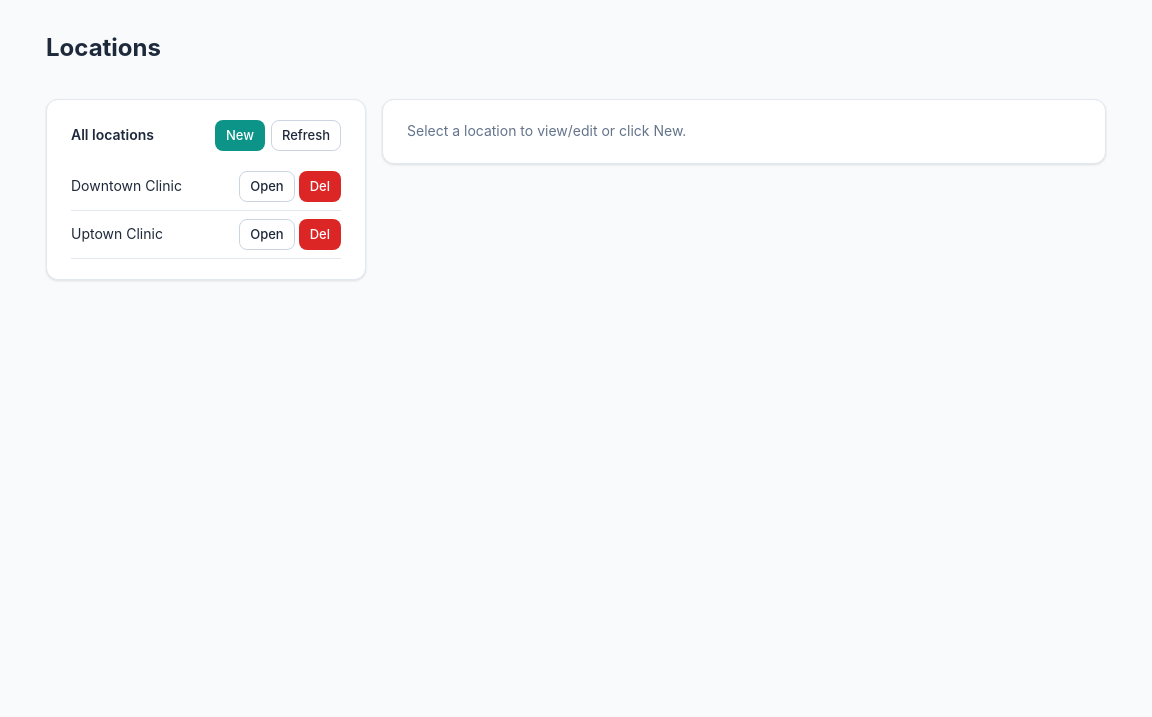
Scenario: LocationsPage › clicking a location name loads it read-only
The image size is (1152, 717).
Click the text "Downtown Clinic" at (126, 186), box [71,175,182,198]
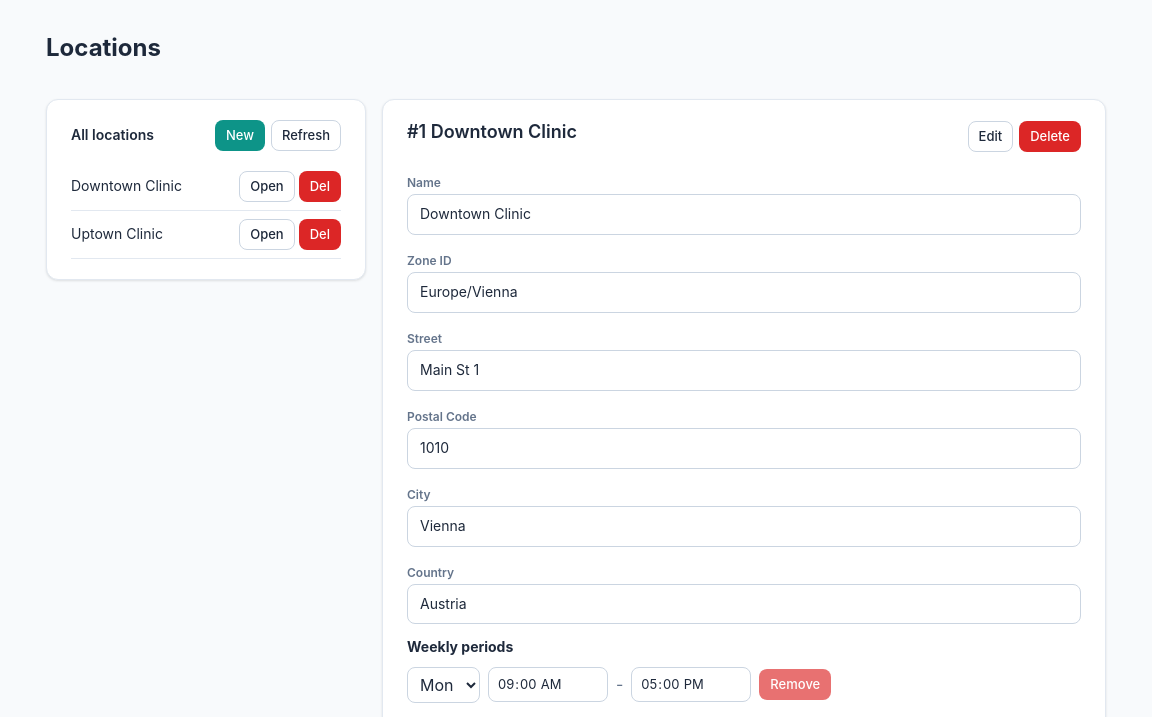
Expected: the heading "#1 Downtown Clinic" is shown, [407,120,577,144]
Expected: the field below "Name" is disabled, [407,194,1081,235]
Expected: the field below "Name" holds "Downtown Clinic", [407,194,1081,235]
